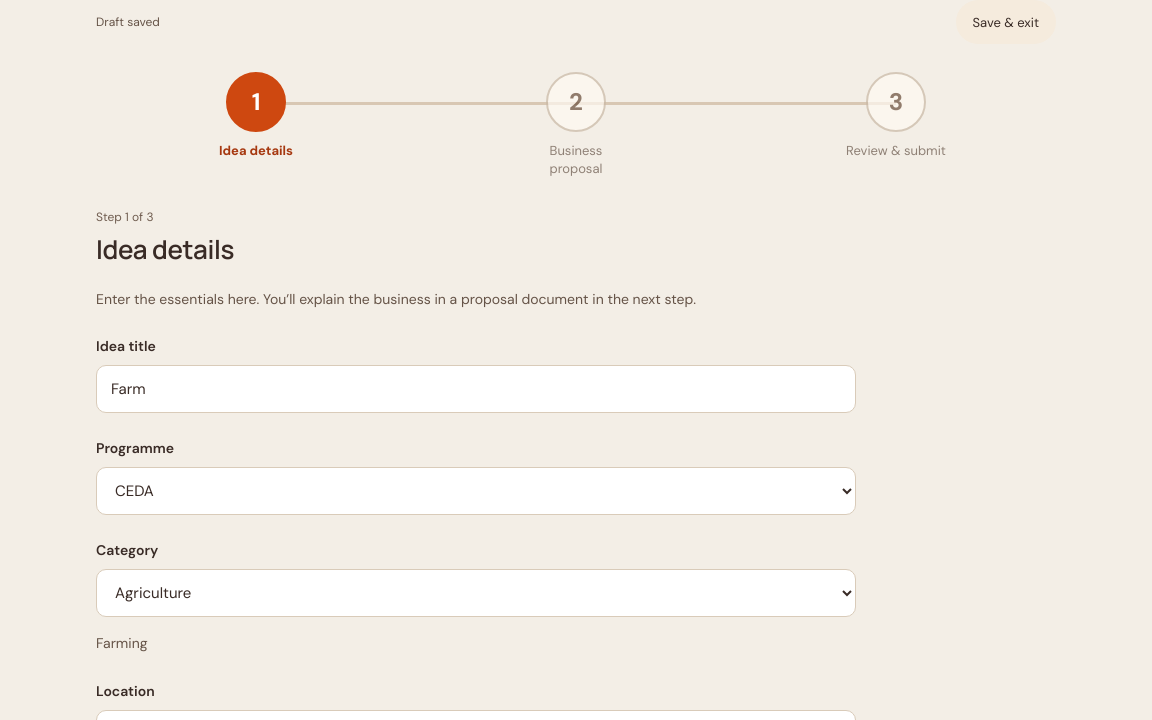
Scenario: changes the template with category and rejects a proposal from the previous category
The width and height of the screenshot is (1152, 720).
Select "Health" in the dropdown labelled "Category" at (476,593), box 96,569 -> 856,617
(page scrolled)
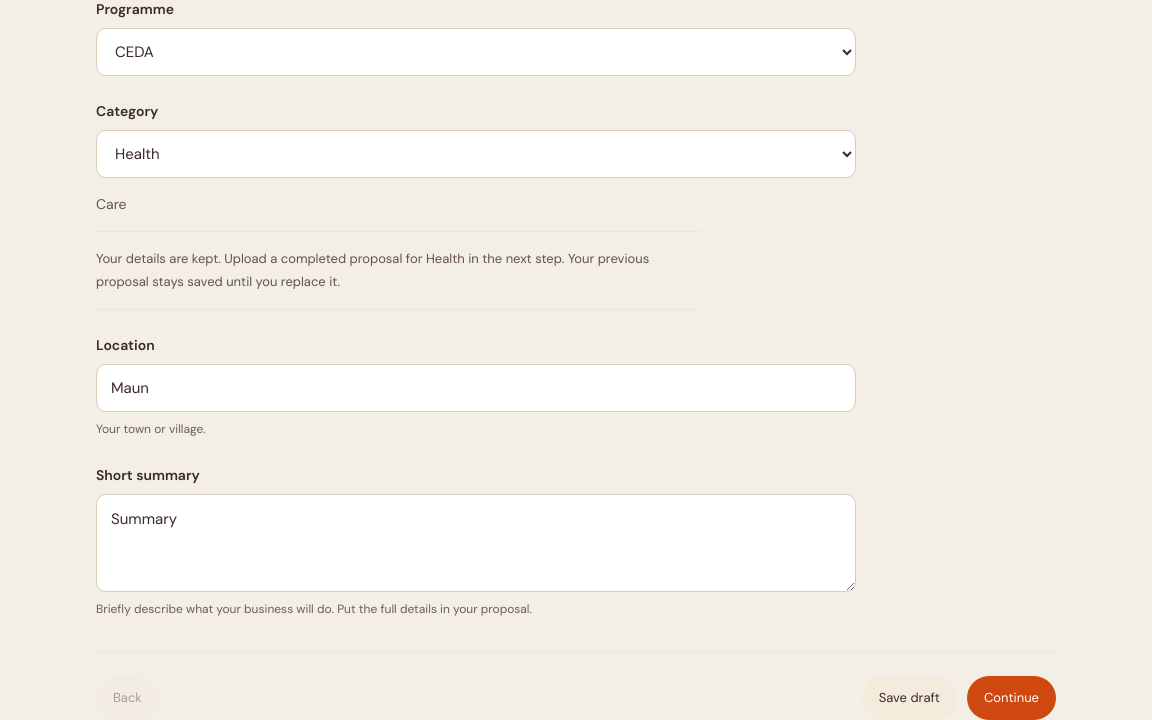
Click the button "Continue".
click(1012, 698)  # box 967,676 -> 1056,719
(page scrolled)
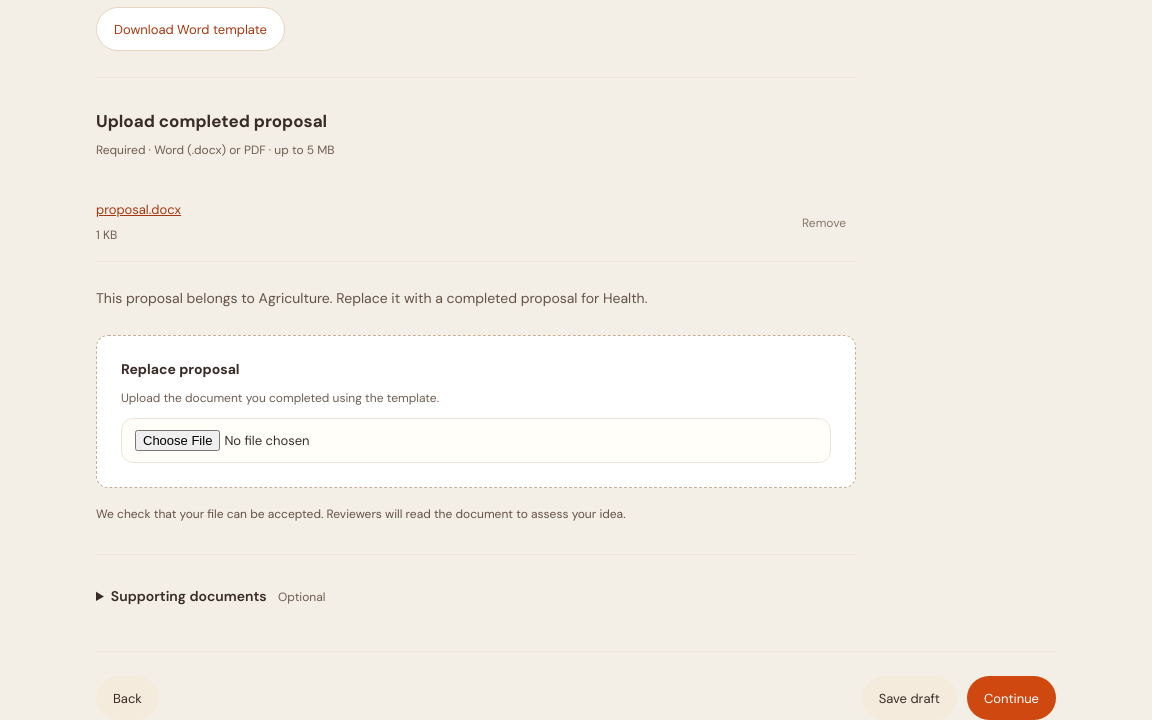
Click the button "Continue".
click(1012, 698)  # box 967,676 -> 1056,719
(page scrolled)
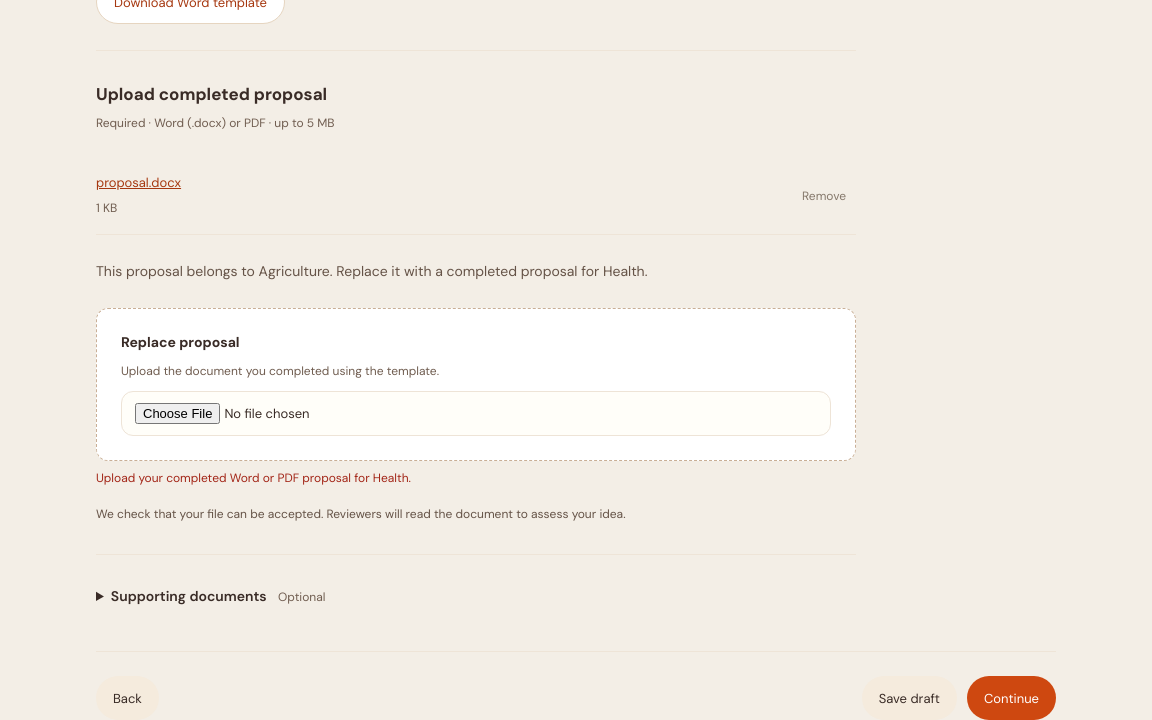
Check: the heading "Review & submit" is not shown
Check: the text "Upload your completed Word or PDF proposal for Health." is shown, box 96,470 -> 411,486
